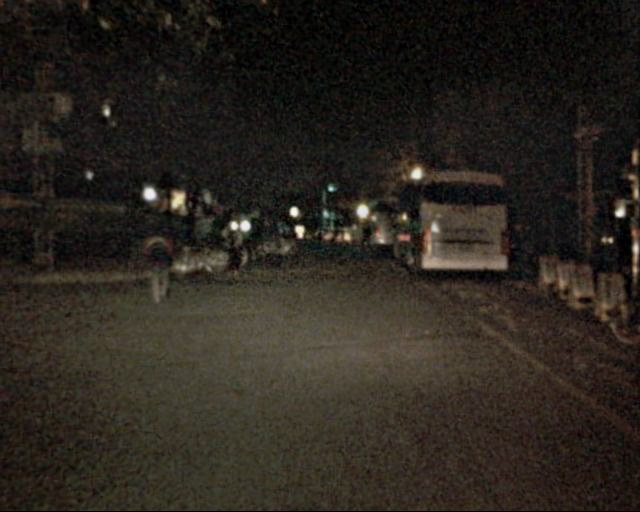person: (142, 218, 177, 304), (221, 217, 245, 276), (349, 223, 375, 258)
